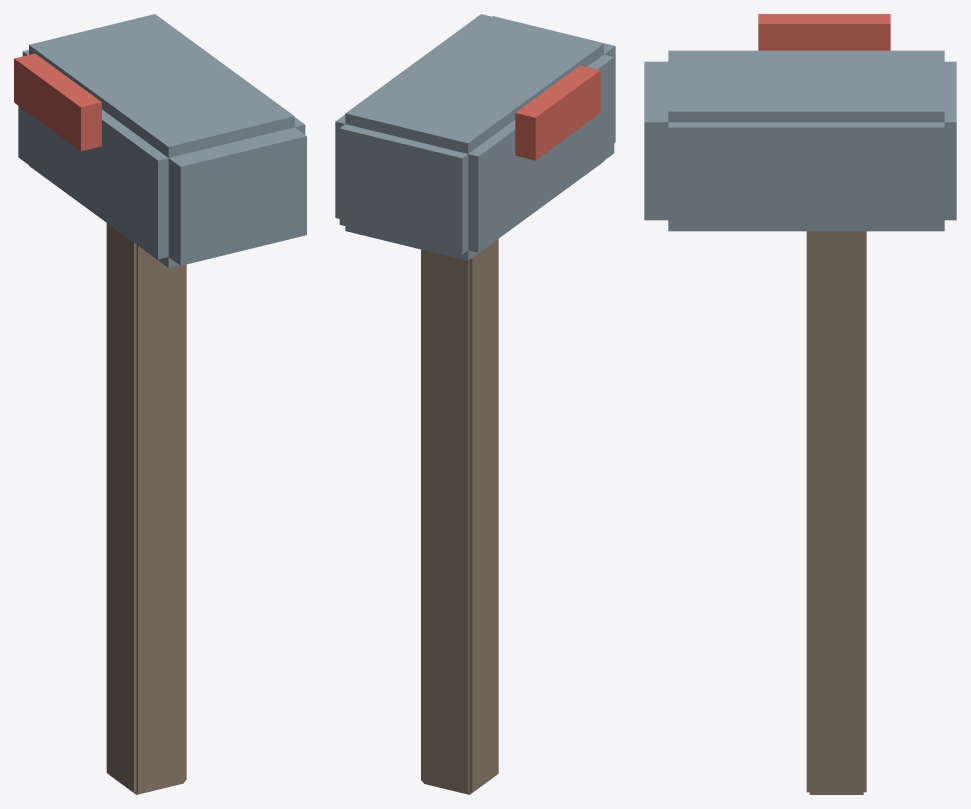
Rendered from mailbox.glb.
The picture shows the model from 3 angles, left to right: view 1: azimuth 30°, elevation 25°; view 2: azimuth 150°, elevation 25°; view 3: azimuth 270°, elevation 25°; orthographic projection. The views are drawn at different scales.
Parts seen in each view (by area): view 1: Post, Box, Door, Flag; view 2: Box, Post, Flag; view 3: Box, Post, Flag, Door.
Boxes of the visible parts, x1,y1,x2,y2 form: Post: (106,223,186,794); Box: (18,14,305,267); Door: (168,130,306,265); Flag: (14,53,101,151); Box: (335,14,614,260); Post: (421,239,498,794); Flag: (515,65,600,160); Box: (656,50,956,231); Post: (806,231,866,794); Flag: (758,14,890,50); Door: (644,61,668,220).
Bounding box in the file's own units: 0.34 × 1.32 × 0.52.
